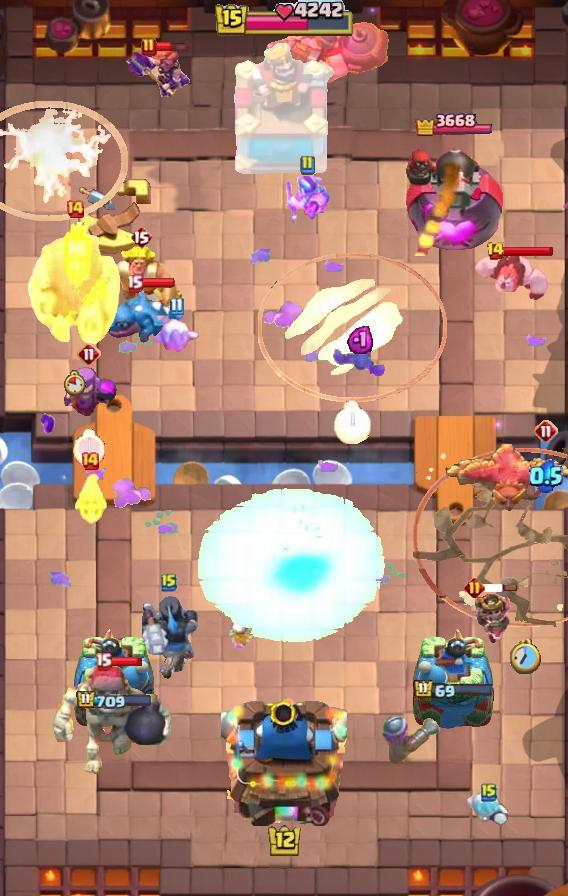barbarian: (332, 345, 388, 379)
barbarian-evolution: (0, 100, 128, 222)
bat: (466, 791, 512, 826)
bat-evolution: (72, 472, 108, 526)
bomb-tower: (379, 714, 441, 768)
bomber-evolution: (465, 590, 515, 652)
clock: (213, 0, 355, 40)
electro-giant: (51, 663, 175, 775)
electro-spirit: (529, 459, 563, 493), (347, 324, 373, 354)
elixir: (333, 400, 371, 444), (73, 429, 105, 467), (510, 639, 541, 673), (64, 370, 86, 396)
emote: (502, 245, 554, 257), (154, 39, 190, 52), (140, 277, 176, 289), (109, 656, 143, 667), (482, 583, 518, 593)
giant-skeleton: (27, 220, 123, 348)
giant-snowball: (283, 175, 331, 227)
goblin-hut: (97, 246, 185, 322)
graveyard: (103, 281, 187, 345)
guard: (413, 448, 567, 627)
heal-spirit: (229, 616, 259, 650)
ice-wizard: (257, 253, 446, 402)
inferno-dragon: (139, 593, 199, 683)
king-tower: (221, 690, 347, 826), (228, 41, 340, 181)
mega-knight: (194, 485, 391, 646)
mirror: (151, 318, 201, 356)
mother-witch: (444, 444, 568, 518)
queen-tower: (72, 627, 156, 731), (411, 627, 495, 731)
rage: (472, 251, 548, 307)
rascal-girl: (60, 365, 118, 421)
selected: (416, 110, 493, 140), (414, 679, 495, 701), (75, 689, 152, 711)
tesla-evolution: (123, 43, 191, 103)
text: (77, 342, 101, 366), (534, 419, 558, 443), (130, 225, 152, 249), (463, 577, 485, 599), (65, 199, 85, 219), (80, 451, 100, 471), (486, 241, 505, 261), (125, 274, 142, 293), (96, 652, 113, 671), (141, 37, 157, 57), (299, 155, 315, 175), (161, 572, 177, 592), (481, 782, 497, 802), (169, 297, 183, 315)
tower-bar: (404, 138, 505, 256)
wizard: (265, 13, 391, 87)
